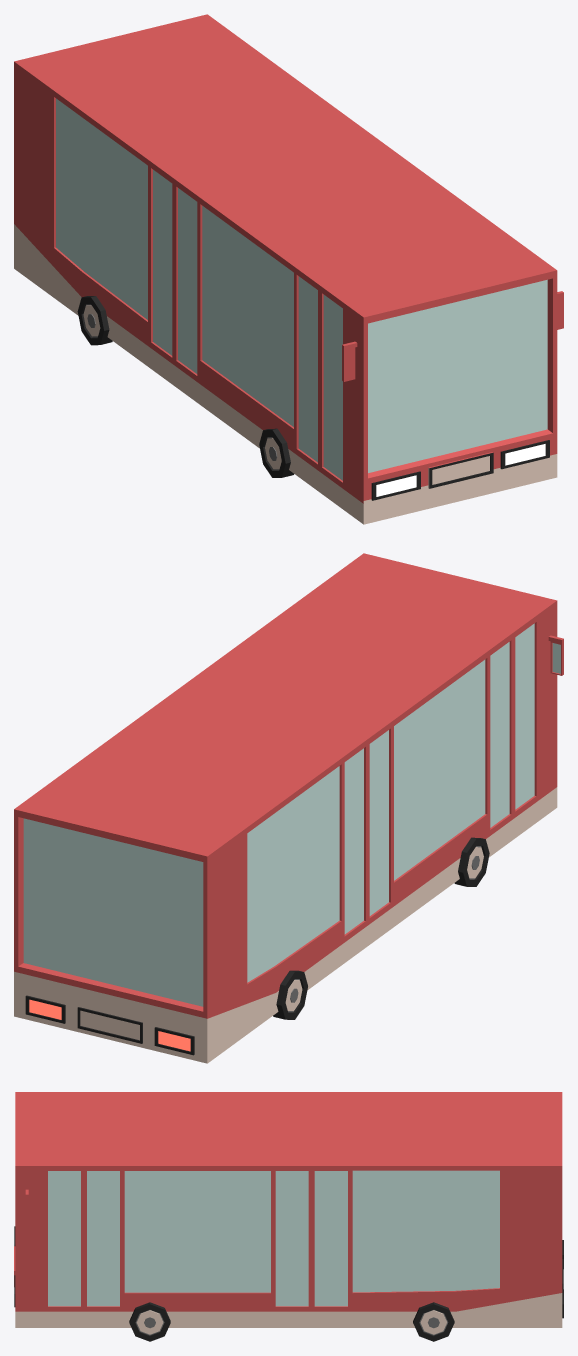
File: Bus.fbx
3 renders of one model, top to bottom at view 1: azimuth 30°, elevation 25°; view 2: azimuth 150°, elevation 25°; view 3: azimuth 270°, elevation 25°, orthographic. The views are drawn at different scales.
Parts seen in each view (by area): view 1: bus; view 2: bus; view 3: bus.
Part boxes in pixels (x1,y1,x2,y2): bus: (14, 14, 563, 524); bus: (14, 553, 563, 1063); bus: (14, 1092, 563, 1341).
Size of the model in its own units: 342 by 331 by 948.
